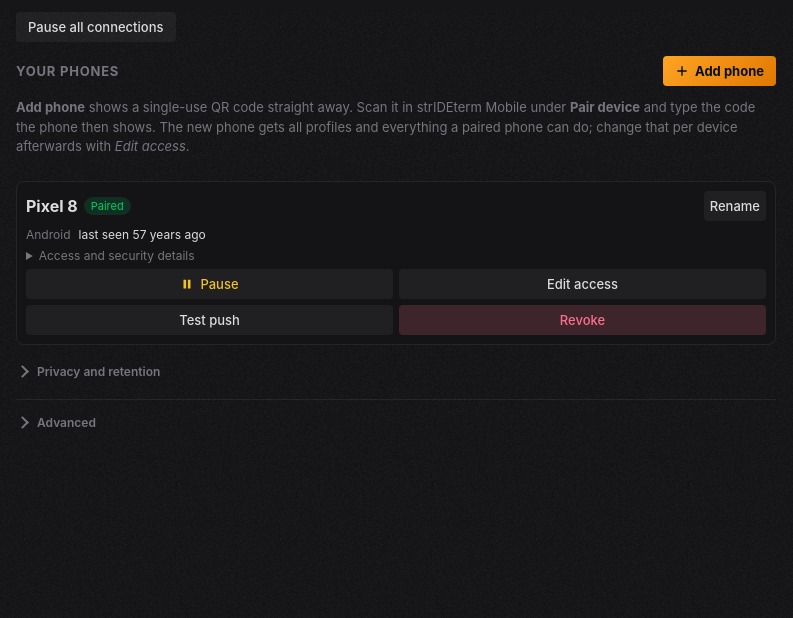
Test: SettingsMobileTab › a failed Add phone keeps its error and a retry on screen
The width and height of the screenshot is (793, 618).
Click the button "Add phone": (720, 71) [663, 56, 776, 86]
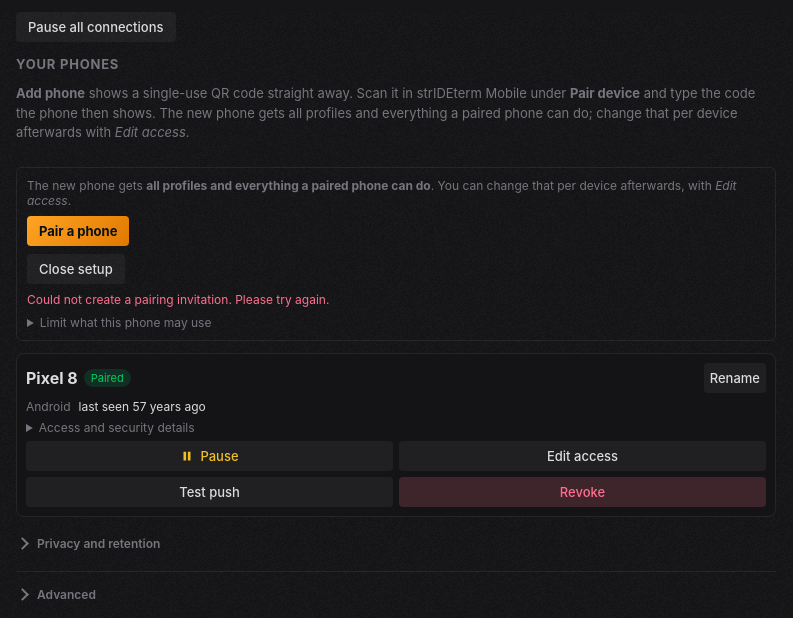
Expected: the text "Could not create a pairing invitation. Please try again." is shown, [27, 292, 329, 306]
Expected: the button "Pair a phone" is shown, [27, 216, 129, 246]
